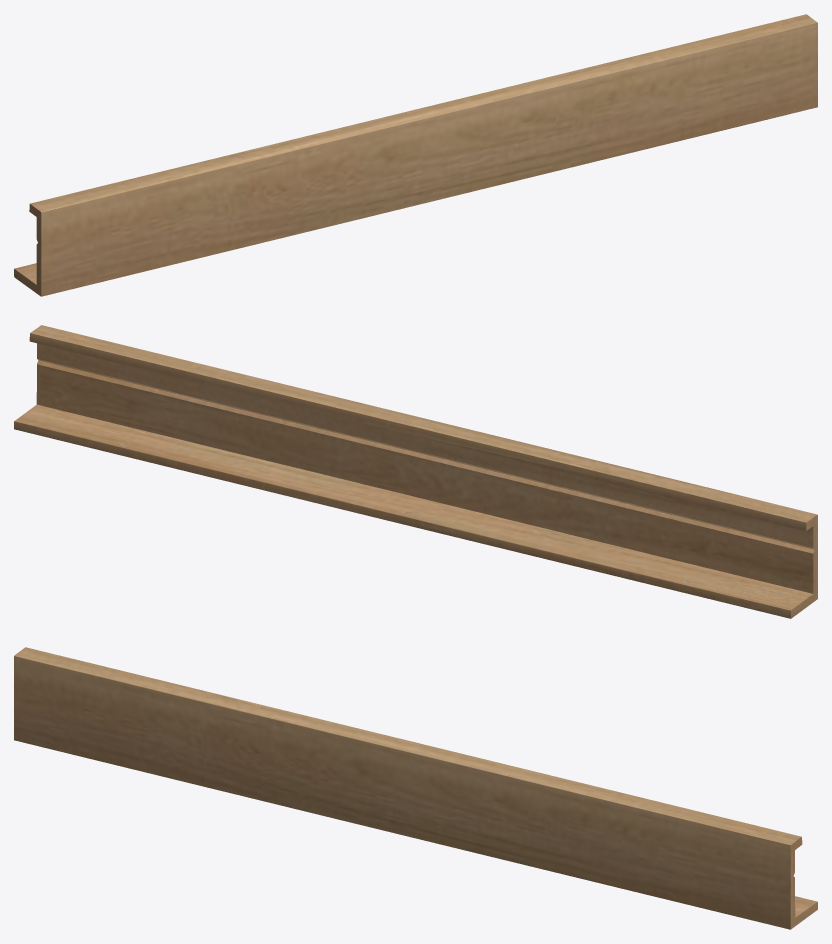
File: 24 - MOSSLANDA Picture ledge - oak effect 115 cm.glb
The picture shows the model from 3 angles, top to bottom: view 1: azimuth 30°, elevation 25°; view 2: azimuth 150°, elevation 25°; view 3: azimuth 330°, elevation 25°; orthographic projection.
Visible parts, largest first — view 1: ASY_ART_70586941_S01_NV01; view 2: ASY_ART_70586941_S01_NV01; view 3: ASY_ART_70586941_S01_NV01.
Boxes of the visible parts, x1=… form: ASY_ART_70586941_S01_NV01: x1=14, y1=14, x2=817, y2=296; ASY_ART_70586941_S01_NV01: x1=14, y1=325, x2=817, y2=618; ASY_ART_70586941_S01_NV01: x1=14, y1=647, x2=817, y2=929.
Bounding box in the file's own units: 1.15 × 0.1203 × 0.0702.
1 material, 1 textured.
